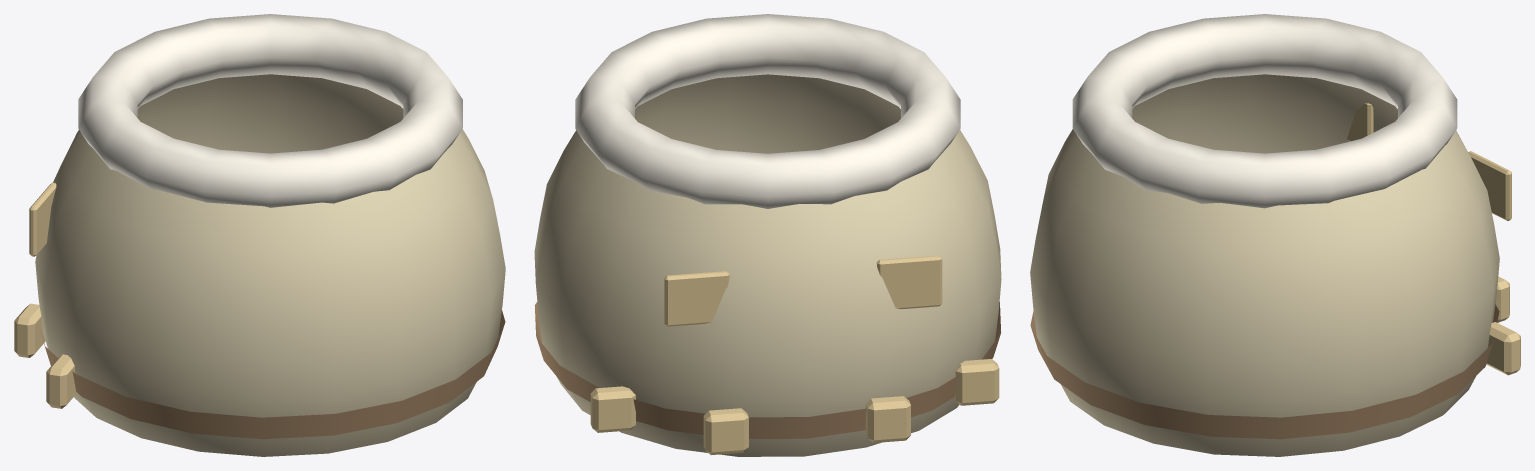
File: desert_chest.fbx
3 views of the same model, side by side, from view 1: azimuth 30°, elevation 25°; view 2: azimuth 150°, elevation 25°; view 3: azimuth 270°, elevation 25° (orthographic).
Visible parts, largest first — view 1: desert_chest; view 2: desert_chest; view 3: desert_chest.
Boxes of the visible parts, x1,y1,x2,y2 form: desert_chest: (14, 14, 505, 456); desert_chest: (534, 14, 1001, 456); desert_chest: (1030, 14, 1520, 456).
Size of the model in its own units: 1.8 by 1.12 by 1.78.
